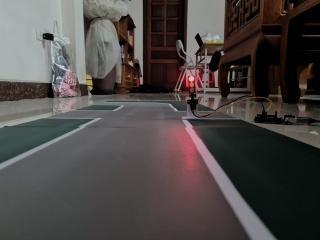red: (183, 73, 203, 113)
